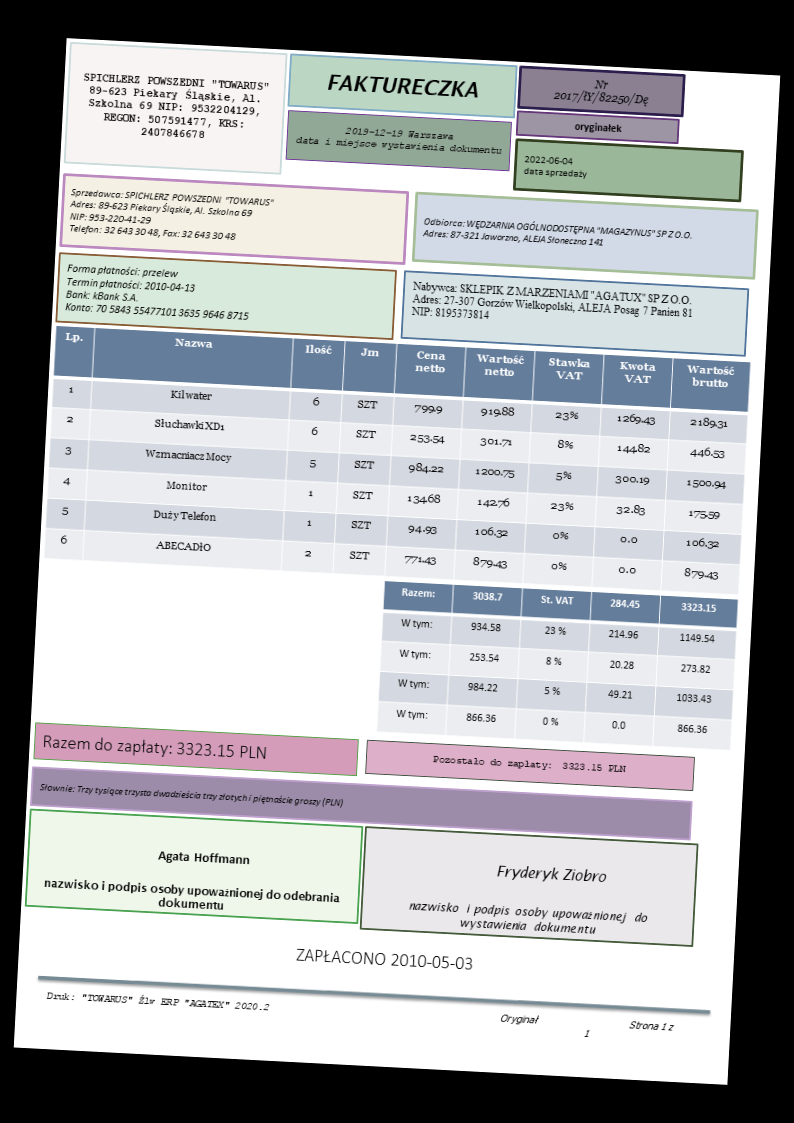Table: (43, 325, 750, 595), (375, 579, 739, 751)
TextBox: (410, 278, 697, 332), (79, 70, 270, 144), (42, 874, 341, 918), (66, 186, 277, 246), (62, 261, 253, 324), (419, 214, 695, 253), (407, 899, 649, 939), (37, 780, 345, 811), (293, 120, 504, 157), (41, 733, 268, 764), (498, 1013, 677, 1043), (45, 990, 270, 1013), (294, 945, 476, 972), (431, 753, 627, 777), (326, 72, 480, 100), (552, 75, 653, 108), (494, 861, 609, 888), (156, 849, 251, 869), (522, 153, 589, 181), (573, 119, 624, 137)
